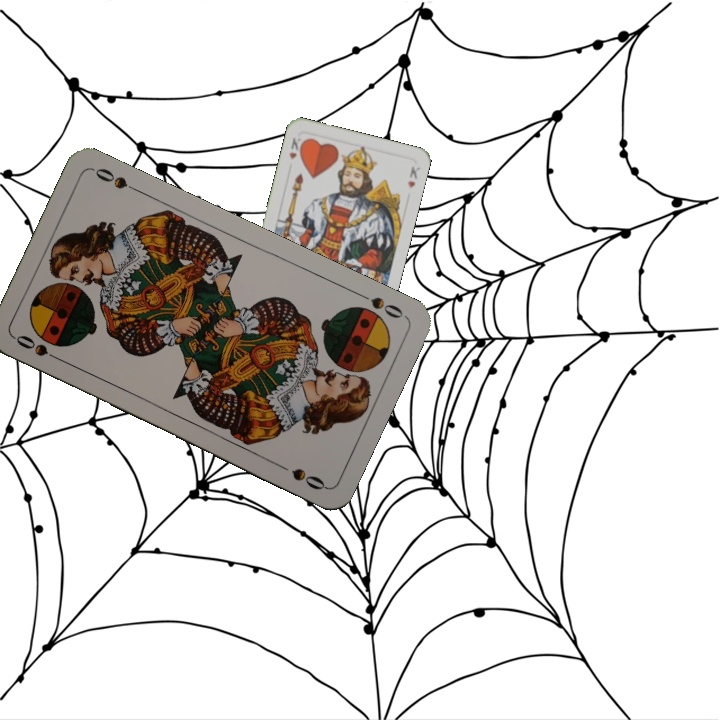HK: (285, 133, 307, 162)
SO: (11, 330, 67, 365), (353, 288, 408, 322)
